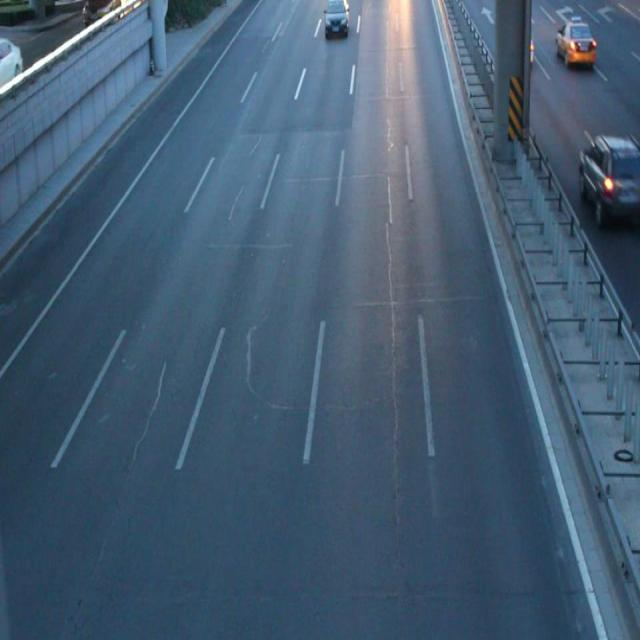car: (576, 131, 640, 217), (553, 20, 594, 64), (503, 27, 533, 62), (323, 2, 348, 34)
